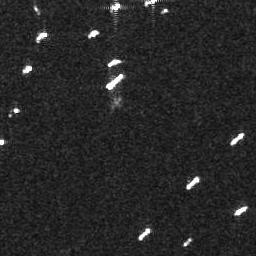ship: (104, 74, 127, 91), (185, 175, 200, 190), (230, 130, 244, 146), (138, 227, 152, 241), (34, 31, 49, 43), (107, 57, 121, 69), (234, 206, 248, 216), (87, 29, 100, 38), (22, 64, 33, 74), (143, 1, 161, 7), (182, 236, 192, 246), (111, 2, 121, 12), (33, 4, 41, 15)
